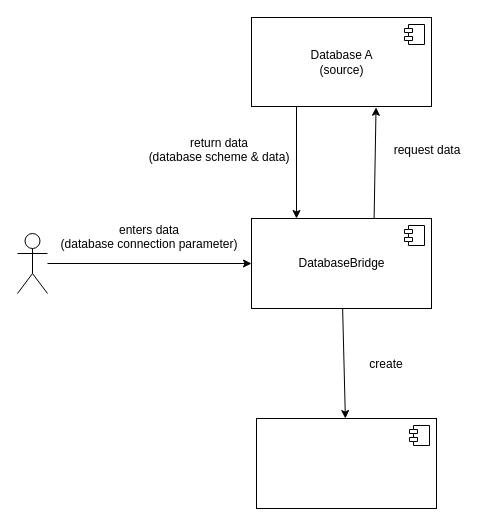
Image size: 485x526. Some labels were removed from this diagram. The shapes that lost their labels are listed below. From the top down, each one's centre as x and y in pixels, then its label:
At [32,263]: "User".
At [346,463]: "Database B (destination)".
